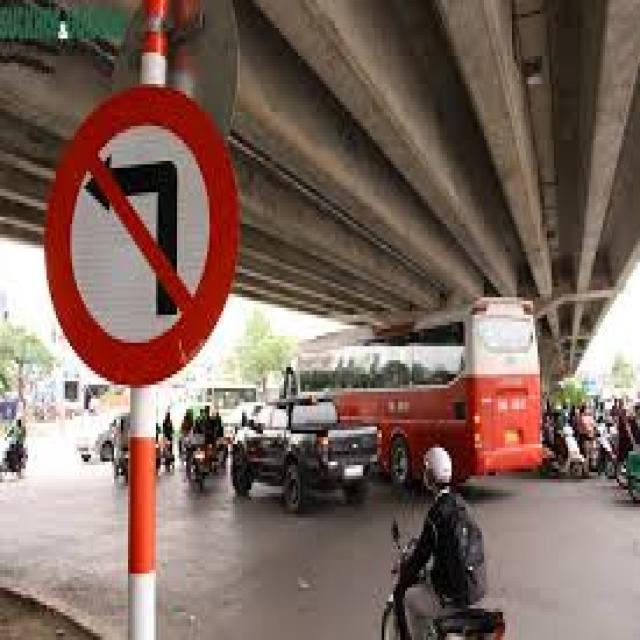Bien bao cam re trai: (24, 61, 279, 410)
